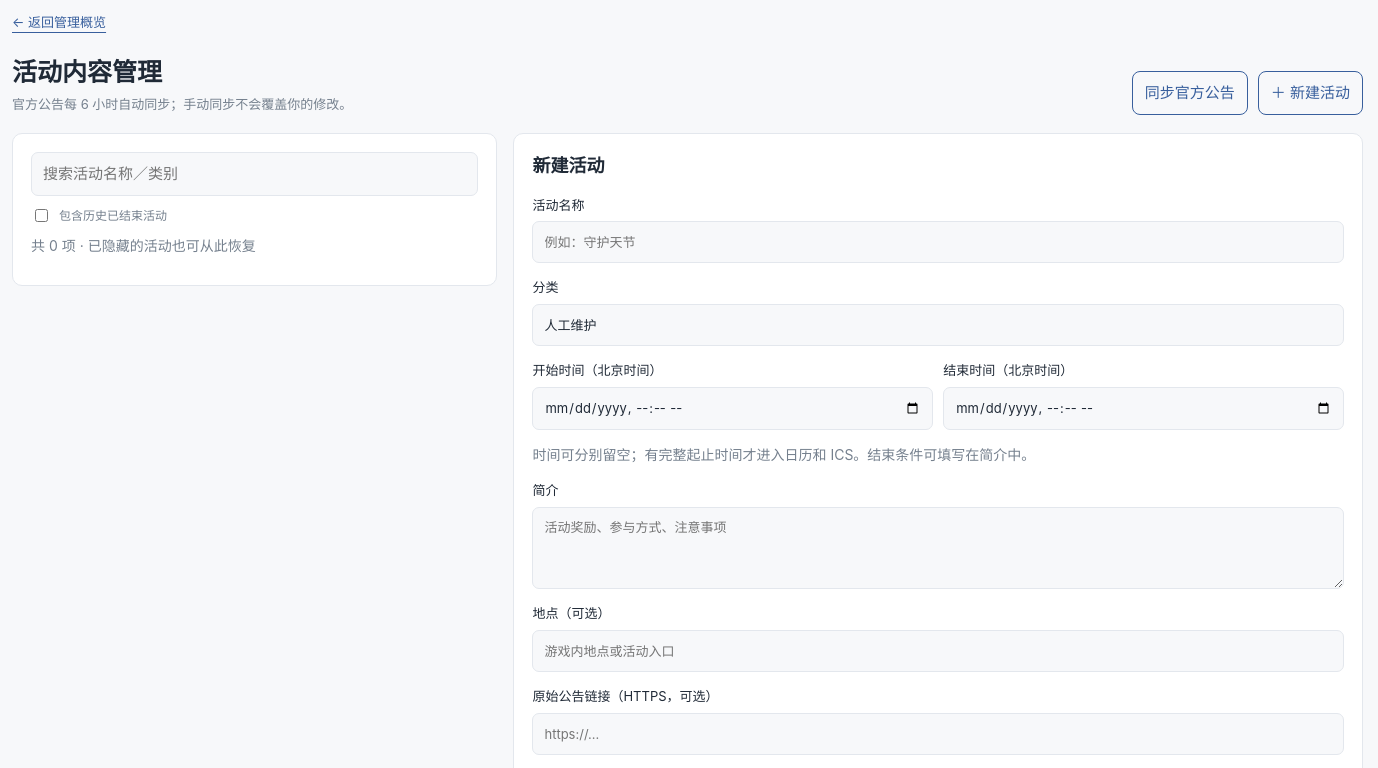
Scenario: 站点管理员独立登录与全站在线设置 › allows the authenticated owner to synchronize official announcements and reload the editor
This screenshot has width=1378, height=768.
Check: the text "共 0 项 · 已隐藏的活动也可从此恢复" is shown, box [31, 237, 256, 254]
Click the button "同步官方公告". click: (1190, 93)
box: [1132, 71, 1248, 115]
(page scrolled)
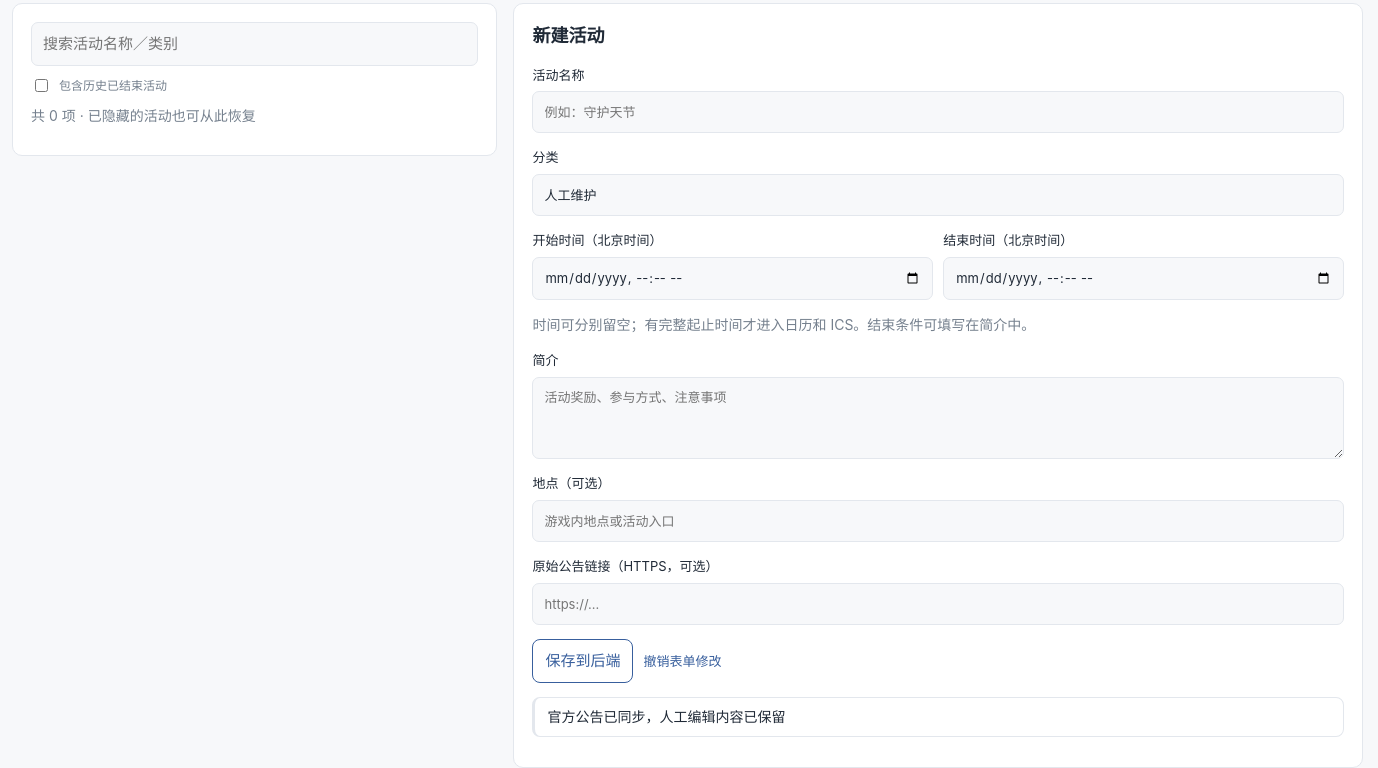
Check: the text "官方公告已同步，人工编辑内容已保留" is shown, box [532, 697, 1344, 737]
